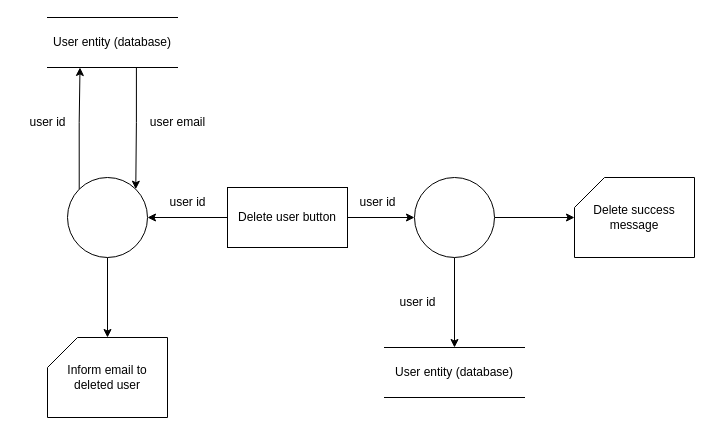
The diagram is 712 pixels wide and 435 high, and some of its shapes have lost their labels. Each missing label, with the centre of its shape:
"Delete User System" belongs at pixel 454 217.
"Send Email System" belongs at pixel 107 217.
